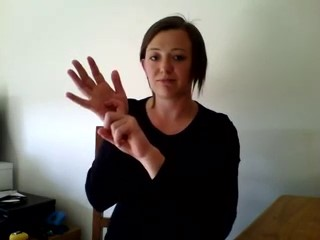R: (60, 51, 143, 159)
